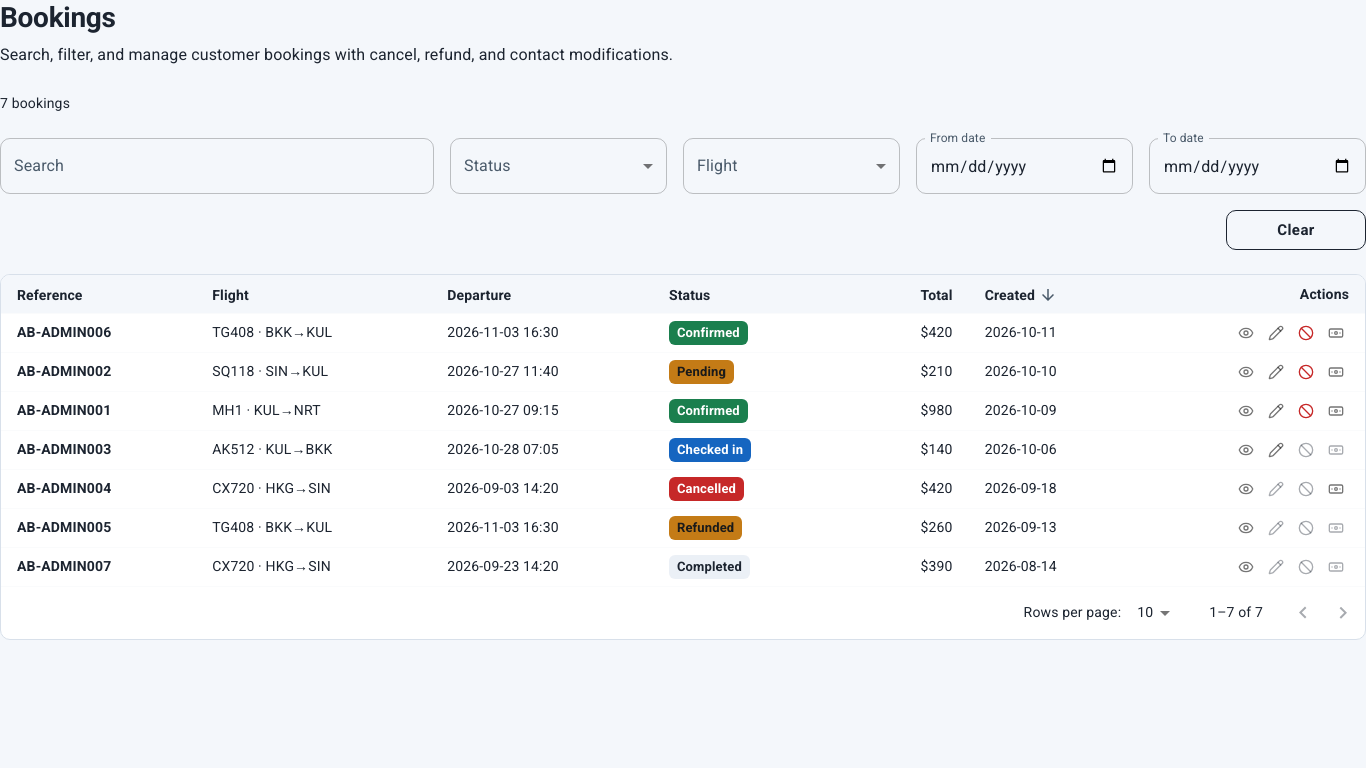
it: AdminBookingsPage › opens booking details from the table
Expected: the text "AB-ADMIN001" is shown, left=17, top=402, right=111, bottom=418
Click the button named "View AB-ADMIN001" at coordinates (1246, 411), box left=1233, top=398, right=1259, bottom=424
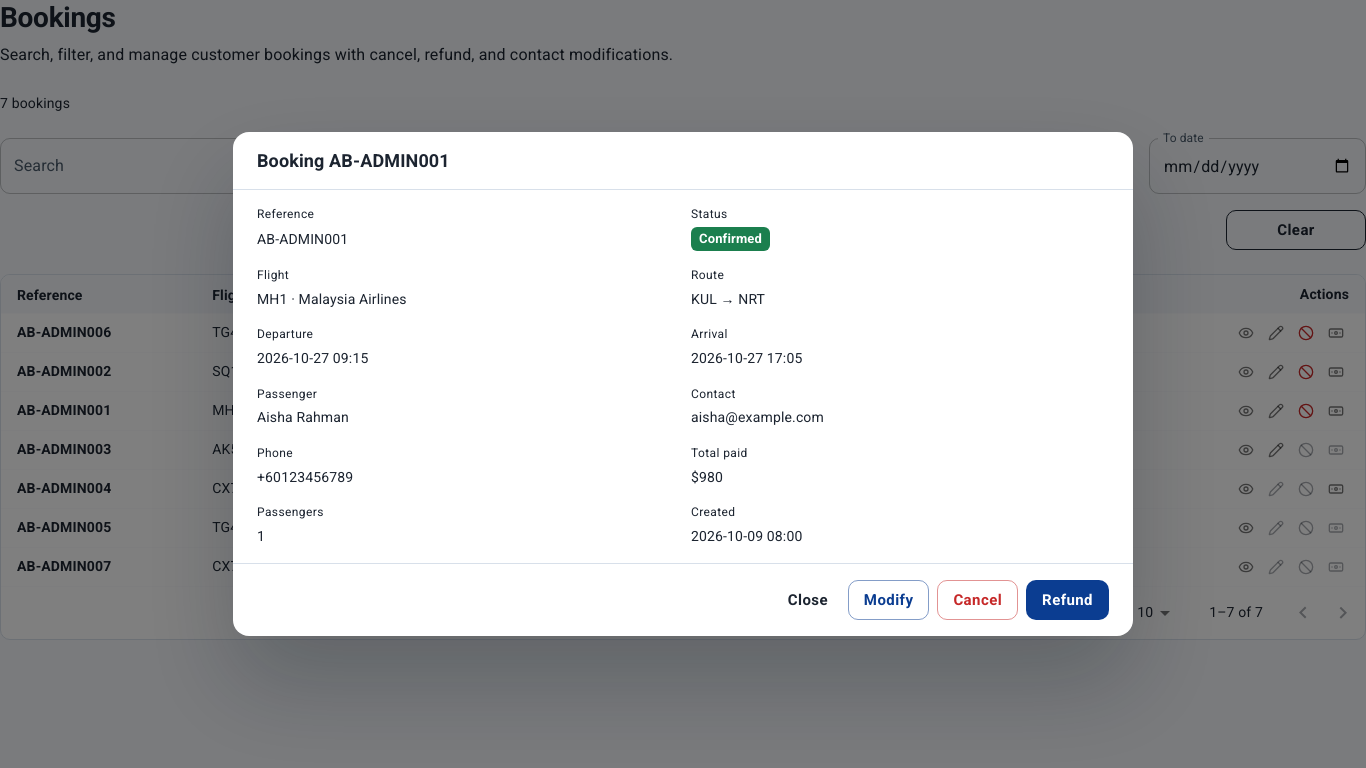
Result: the heading "Booking AB-ADMIN001" is shown at left=257, top=150, right=450, bottom=171
Result: the text "aisha@example.com" is shown at left=691, top=409, right=824, bottom=425
